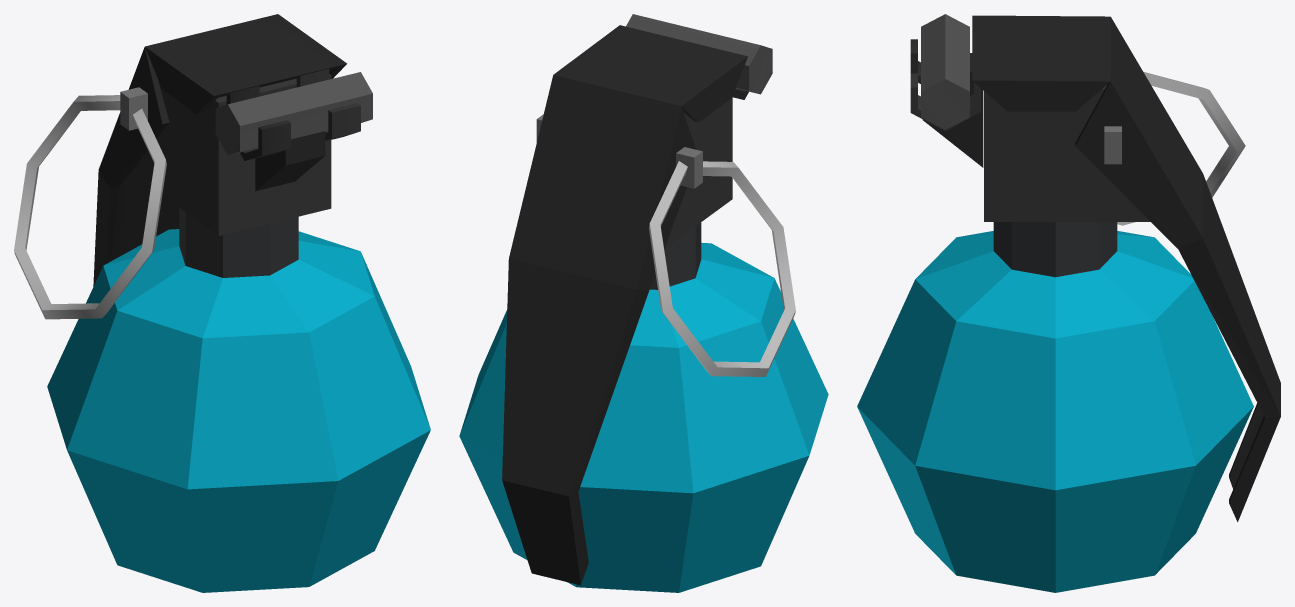
File: Frag3.FBX
3 views of the same model, side by side, from view 1: azimuth 30°, elevation 25°; view 2: azimuth 150°, elevation 25°; view 3: azimuth 270°, elevation 25° (orthographic). The views are drawn at different scales.
Parts seen in each view (by area): view 1: Sphere001, Object053, Object003, Object017; view 2: Object053, Sphere001, Object003, Object017; view 3: Sphere001, Object053, Object003, Object017.
Part boxes in pixels (box(x1,y1,x2,y2)): Sphere001: box(47, 207, 430, 592); Object053: box(93, 14, 372, 286); Object003: box(14, 95, 166, 319); Object017: box(120, 87, 147, 130); Object053: box(502, 14, 772, 585); Sphere001: box(459, 222, 828, 592); Object003: box(649, 161, 795, 376); Object017: box(536, 114, 702, 188); Sphere001: box(857, 222, 1253, 592); Object053: box(910, 14, 1280, 521); Object003: box(1117, 72, 1245, 225); Object017: box(1104, 126, 1121, 164).
Size of the model in its own units: 0.1435 by 0.2155 by 0.1533.
